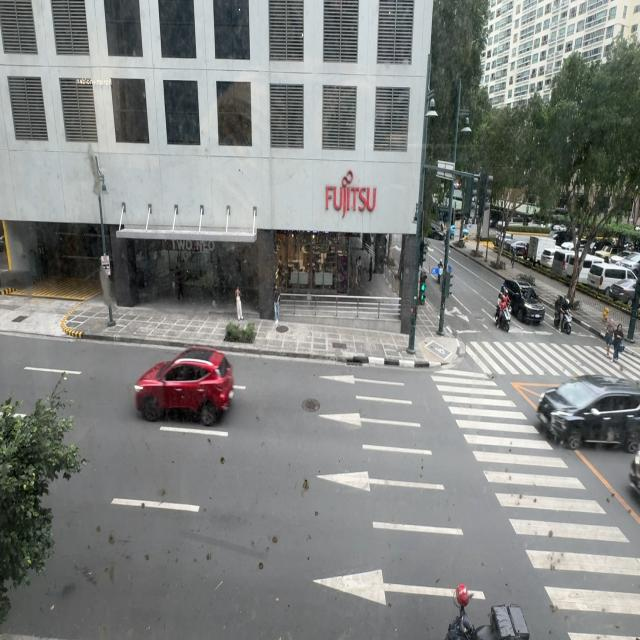crossing: (613, 324, 624, 362), (605, 318, 615, 356)
pedestrain: (273, 282, 281, 322), (235, 287, 243, 321)
